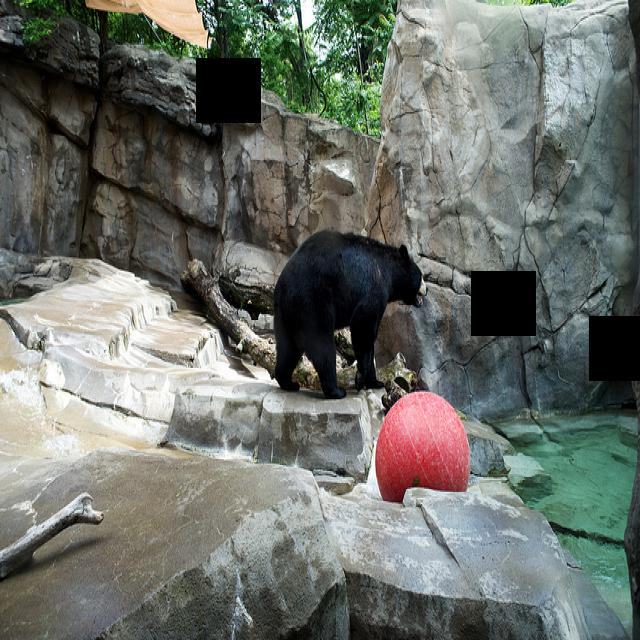Bear: (269, 217, 433, 384)
